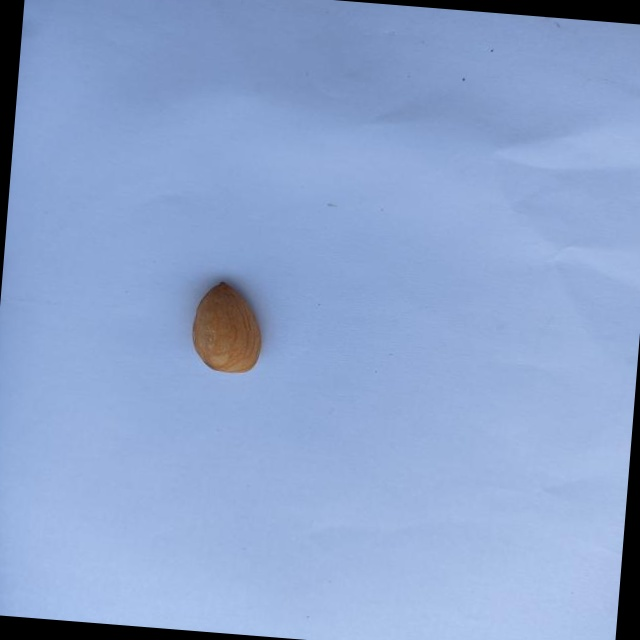grade2: (186, 277, 273, 379)
